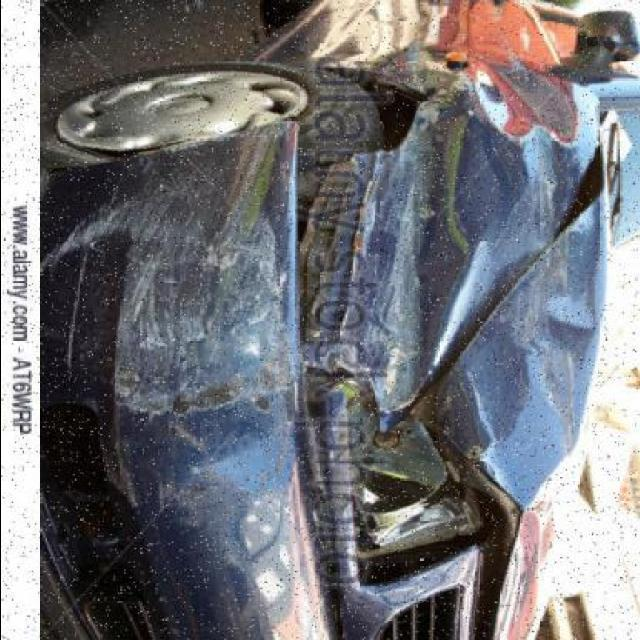Headlight-Damage: (330, 397, 520, 607)
bonnet-dent: (466, 249, 636, 639)
fender-dent: (290, 66, 496, 336)
front-bumper-dent: (39, 107, 313, 631)
